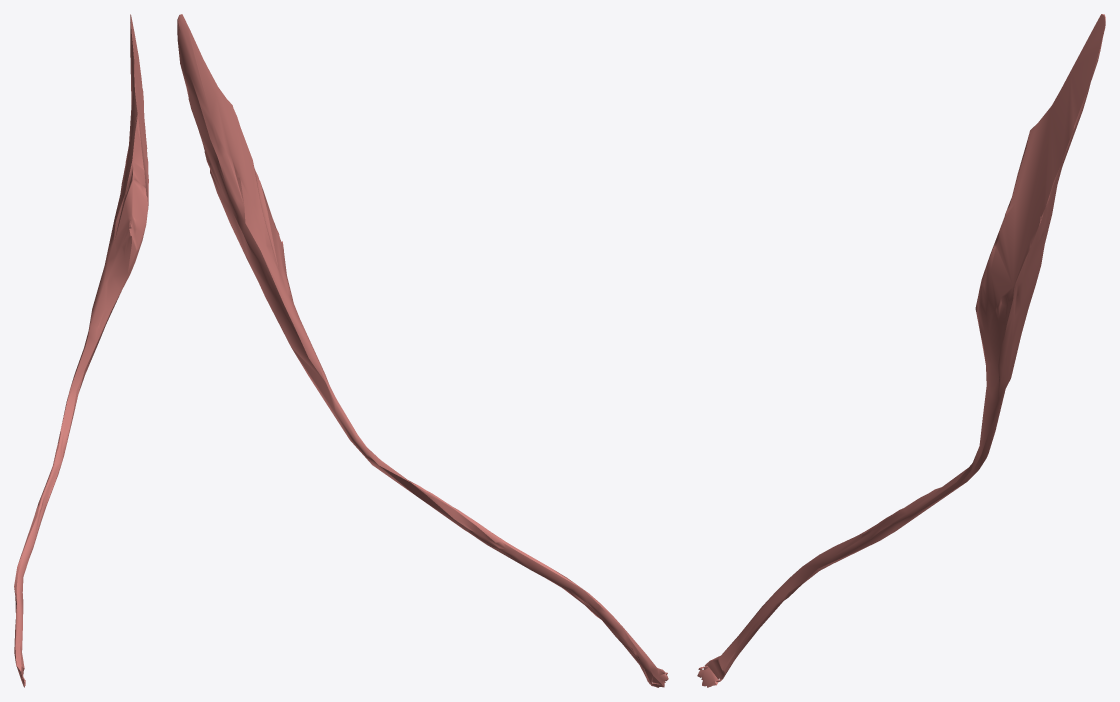
Rendered from fma38522_fj1495.glb.
The picture shows the model from 3 angles, left to right: view 1: azimuth 30°, elevation 25°; view 2: azimuth 150°, elevation 25°; view 3: azimuth 270°, elevation 25°; orthographic projection. The views are drawn at different scales.
Parts seen in each view (by area): view 1: FMA38522_FJ1495; view 2: FMA38522_FJ1495; view 3: FMA38522_FJ1495.
Part boxes in pixels (x1,y1,x2,y2): FMA38522_FJ1495: (14,14,148,687); FMA38522_FJ1495: (177,14,668,687); FMA38522_FJ1495: (697,14,1105,687).
Size of the model in its own units: 0.0948 by 0.2021 by 0.0877.
